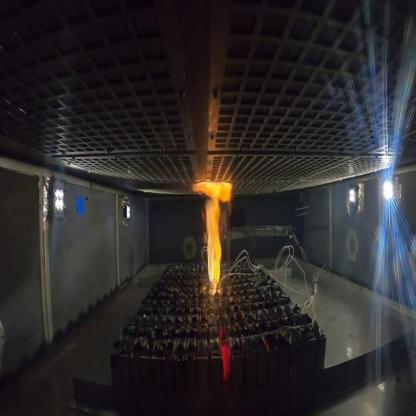fire: (189, 180, 238, 293)
